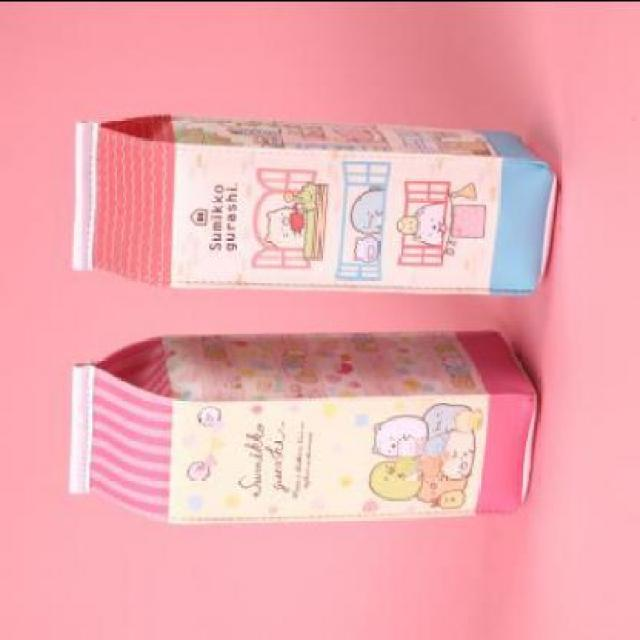non_white_jug: (54, 312, 548, 533), (56, 99, 582, 306)
